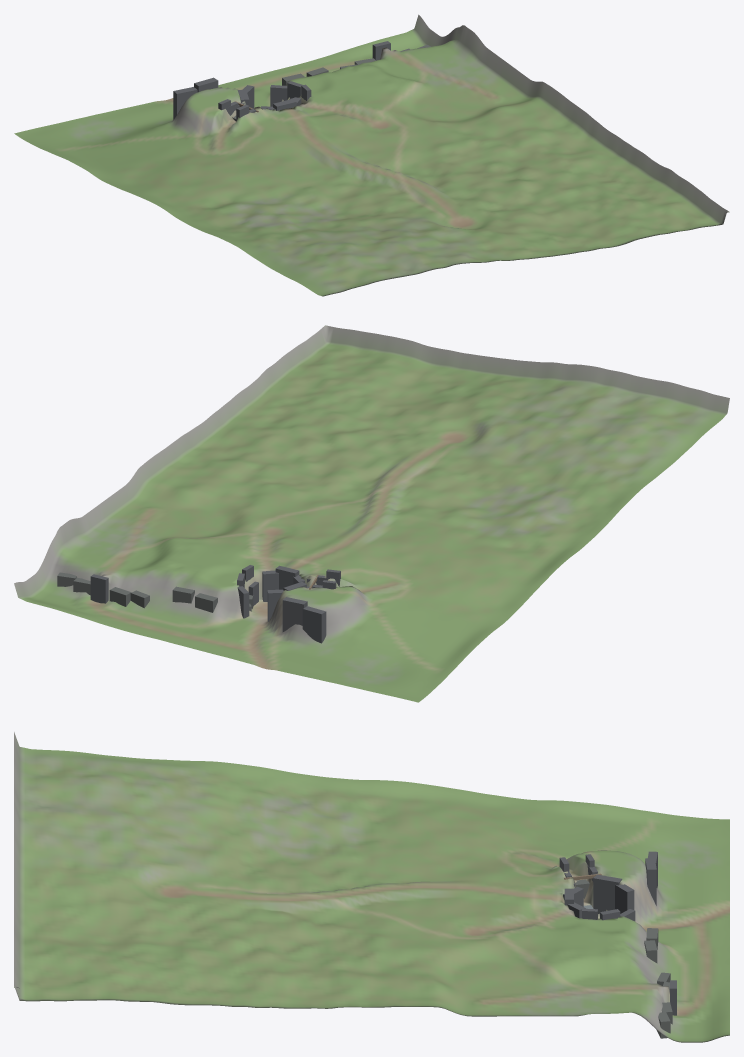
File: horizon.glb
3 views of the same model, one above another, from view 1: azimuth 30°, elevation 25°; view 2: azimuth 150°, elevation 25°; view 3: azimuth 270°, elevation 25° (orthographic). The views are drawn at different scales.
Visible parts, largest first — view 1: horizon_terrain, horizon_landmarks; view 2: horizon_terrain, horizon_landmarks; view 3: horizon_terrain, horizon_landmarks.
Part boxes in pixels (x1,y1,x2,y2): horizon_terrain: (14,14,729,296); horizon_landmarks: (173,41,430,121); horizon_terrain: (14,325,729,702); horizon_landmarks: (57,565,340,643); horizon_terrain: (14,732,729,1042); horizon_landmarks: (559,851,676,1038).
Size of the model in its own units: 768 by 148 by 1024.
